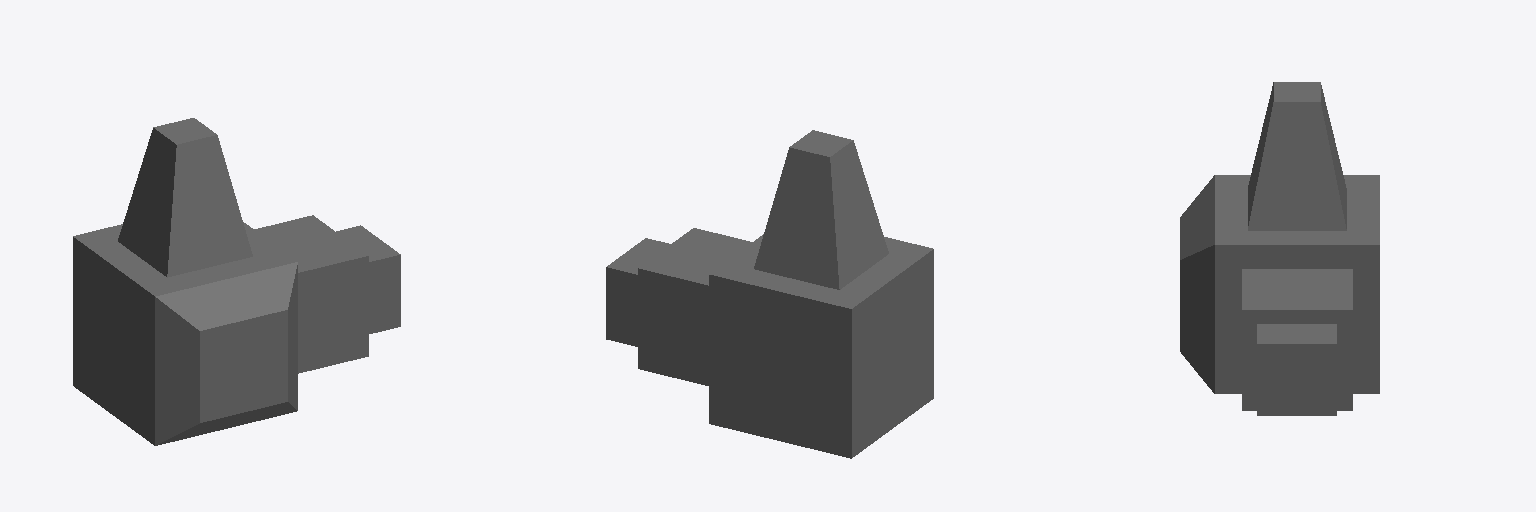
The model's file is Gizmo.obj.
3 renders of one model, left to right at view 1: azimuth 30°, elevation 25°; view 2: azimuth 150°, elevation 25°; view 3: azimuth 270°, elevation 25°, orthographic.
Parts seen in each view (by area): view 1: Mesh; view 2: Mesh; view 3: Mesh.
Part boxes in pixels (x1,y1,x2,y2): Mesh: (73, 118, 400, 445); Mesh: (606, 130, 933, 458); Mesh: (1180, 82, 1379, 415).
Bounding box in the file's own units: 0.934 × 0.894 × 0.604.